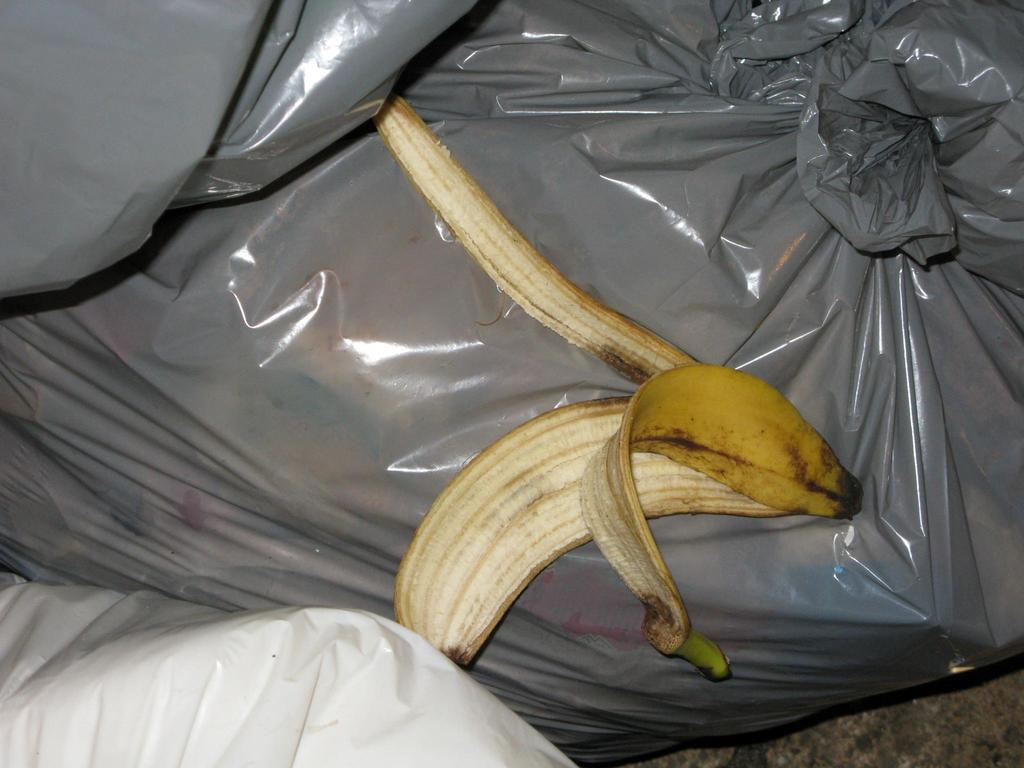Banana: (376, 90, 867, 680)
